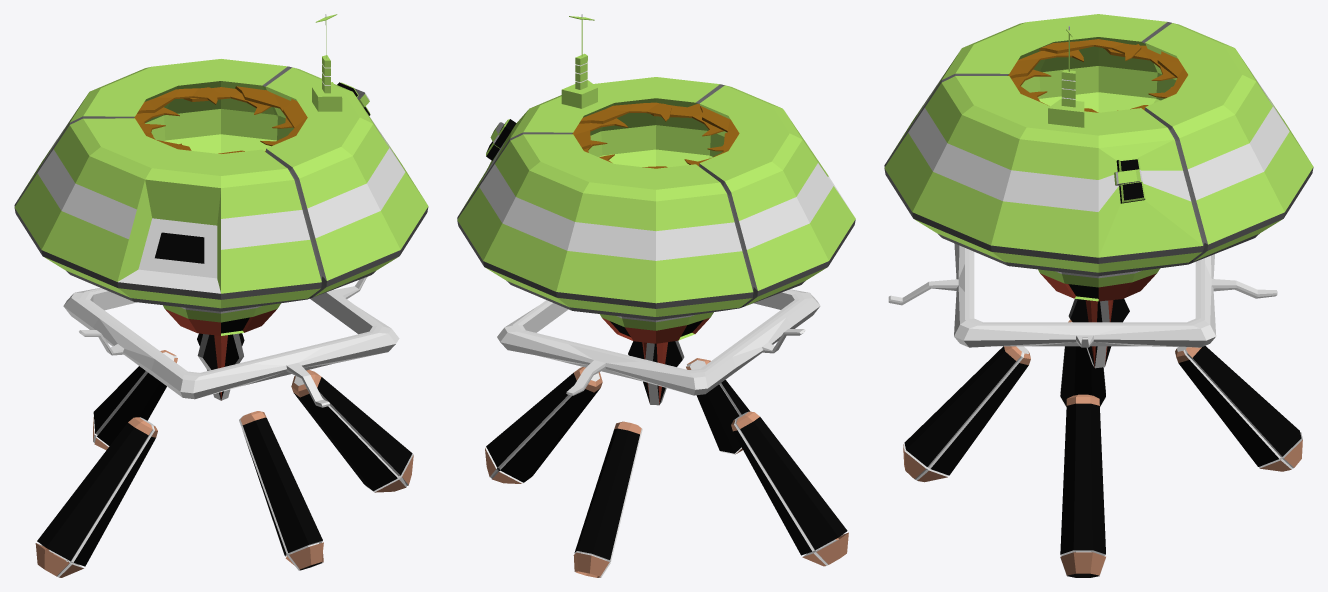
The model's file is SpaceStation.fbx.
The picture shows the model from 3 angles, left to right: view 1: azimuth 30°, elevation 25°; view 2: azimuth 150°, elevation 25°; view 3: azimuth 270°, elevation 25°; orthographic projection. The views are drawn at different scales.
Visible parts, largest first — view 1: MainStation, CircleAroundStation, Engine2, Engine4, Engine3, Engine1, AP1, AP2, AP4, AP3; view 2: MainStation, CircleAroundStation, Engine2, Engine4, Engine1, Engine3, AP4, AP6, AP2, AP5; view 3: MainStation, CircleAroundStation, Engine4, Engine3, Engine1, Engine2, Main_Aperature, AP5, AP1, AP.
Part boxes in pixels (x1,y1,x2,y2): MainStation: [14, 14, 428, 400]; CircleAroundStation: [63, 276, 399, 407]; Engine2: [35, 417, 157, 577]; Engine4: [291, 370, 413, 492]; Engine3: [239, 411, 323, 570]; Engine1: [93, 350, 177, 450]; AP1: [137, 87, 217, 113]; AP2: [235, 86, 293, 128]; AP4: [260, 99, 307, 146]; AP3: [183, 87, 271, 114]; MainStation: [457, 14, 855, 405]; CircleAroundStation: [497, 289, 820, 395]; Engine2: [731, 411, 848, 566]; Engine4: [485, 367, 602, 483]; Engine1: [573, 421, 642, 577]; Engine3: [686, 358, 750, 454]; AP4: [579, 102, 671, 123]; AP6: [651, 104, 723, 136]; AP2: [572, 118, 628, 149]; AP5: [700, 106, 735, 151]; MainStation: [884, 14, 1313, 368]; CircleAroundStation: [888, 243, 1277, 347]; Engine4: [1060, 394, 1105, 577]; Engine3: [903, 346, 1030, 482]; Engine1: [1175, 346, 1302, 471]; Engine2: [1060, 319, 1105, 407]; Main_Aperature: [1039, 39, 1141, 60]; AP5: [1008, 50, 1083, 78]; AP1: [1148, 51, 1187, 98]; AP: [1103, 45, 1176, 80].
Bounding box in the file's own units: 2019 × 2628 × 1963.
